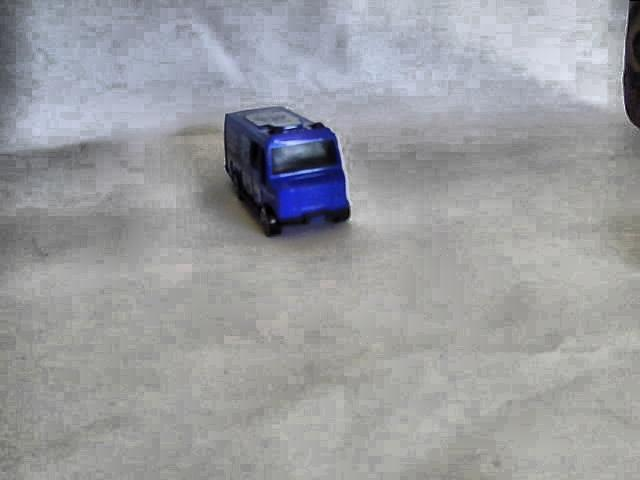police car: (220, 107, 360, 240)
